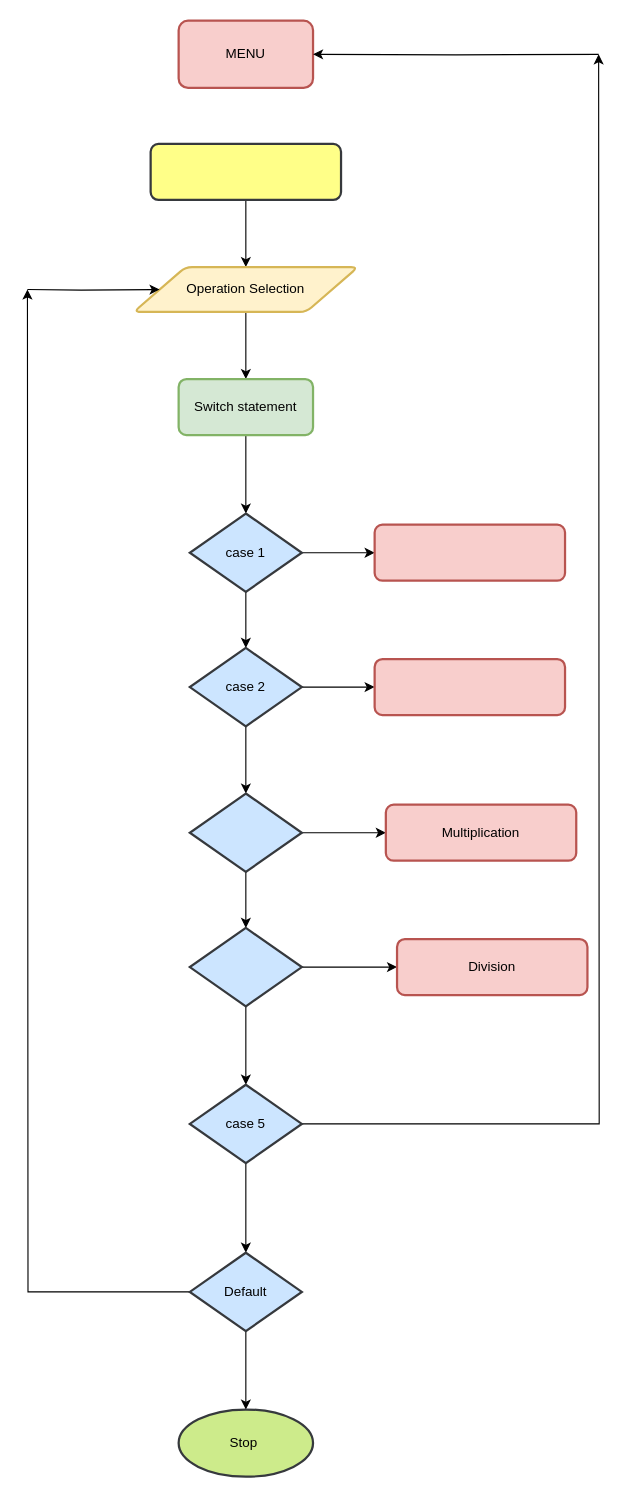
This 628x1496 diagram has some shape labels left out. The box of each missing label's shape, as (x1, y1, x2, y2) in pixels:
Addition function: (373, 523, 566, 581)
case 3: (188, 792, 302, 872)
case 4: (188, 926, 302, 1007)
Siimple Calculator: (149, 142, 342, 200)
Substraction: (373, 657, 566, 716)
